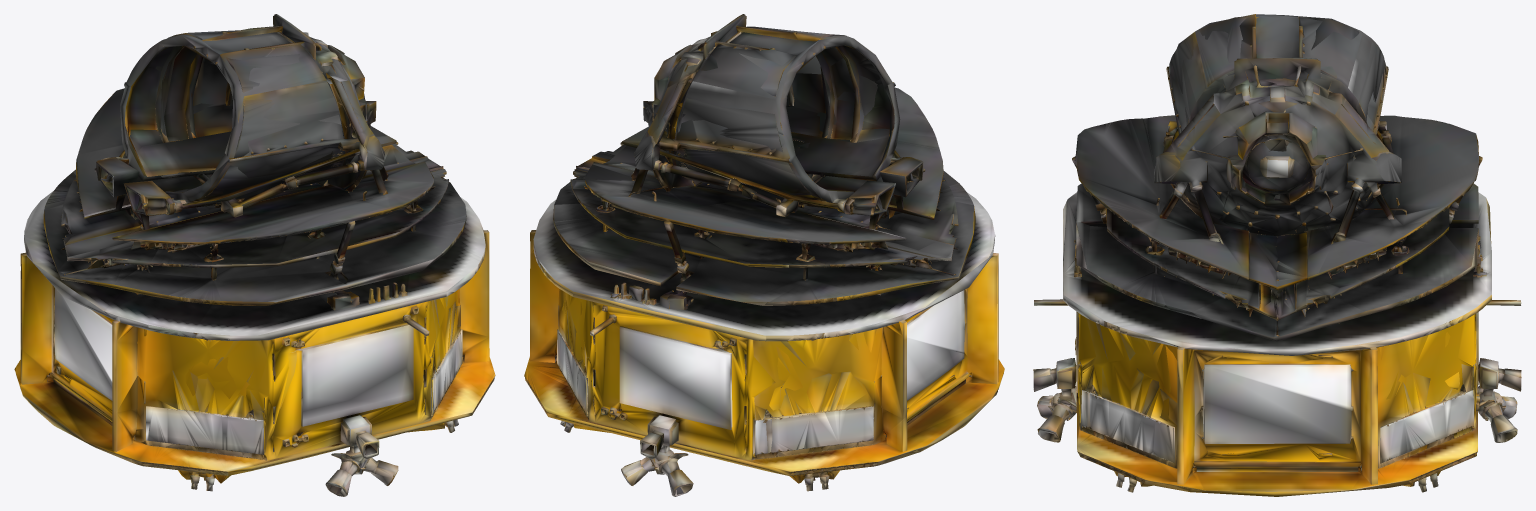
The model's file is ariel-low.glb.
The picture shows the model from 3 angles, left to right: view 1: azimuth 30°, elevation 25°; view 2: azimuth 150°, elevation 25°; view 3: azimuth 270°, elevation 25°; orthographic projection. The views are drawn at different scales.
Size of the model in its own units: 1.99 by 1.78 by 2.
1 material, 1 textured.
